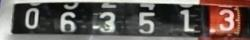digits: (179, 9, 201, 32), (137, 11, 156, 33), (218, 8, 235, 30), (60, 11, 77, 32), (98, 11, 115, 31), (24, 7, 38, 28)
